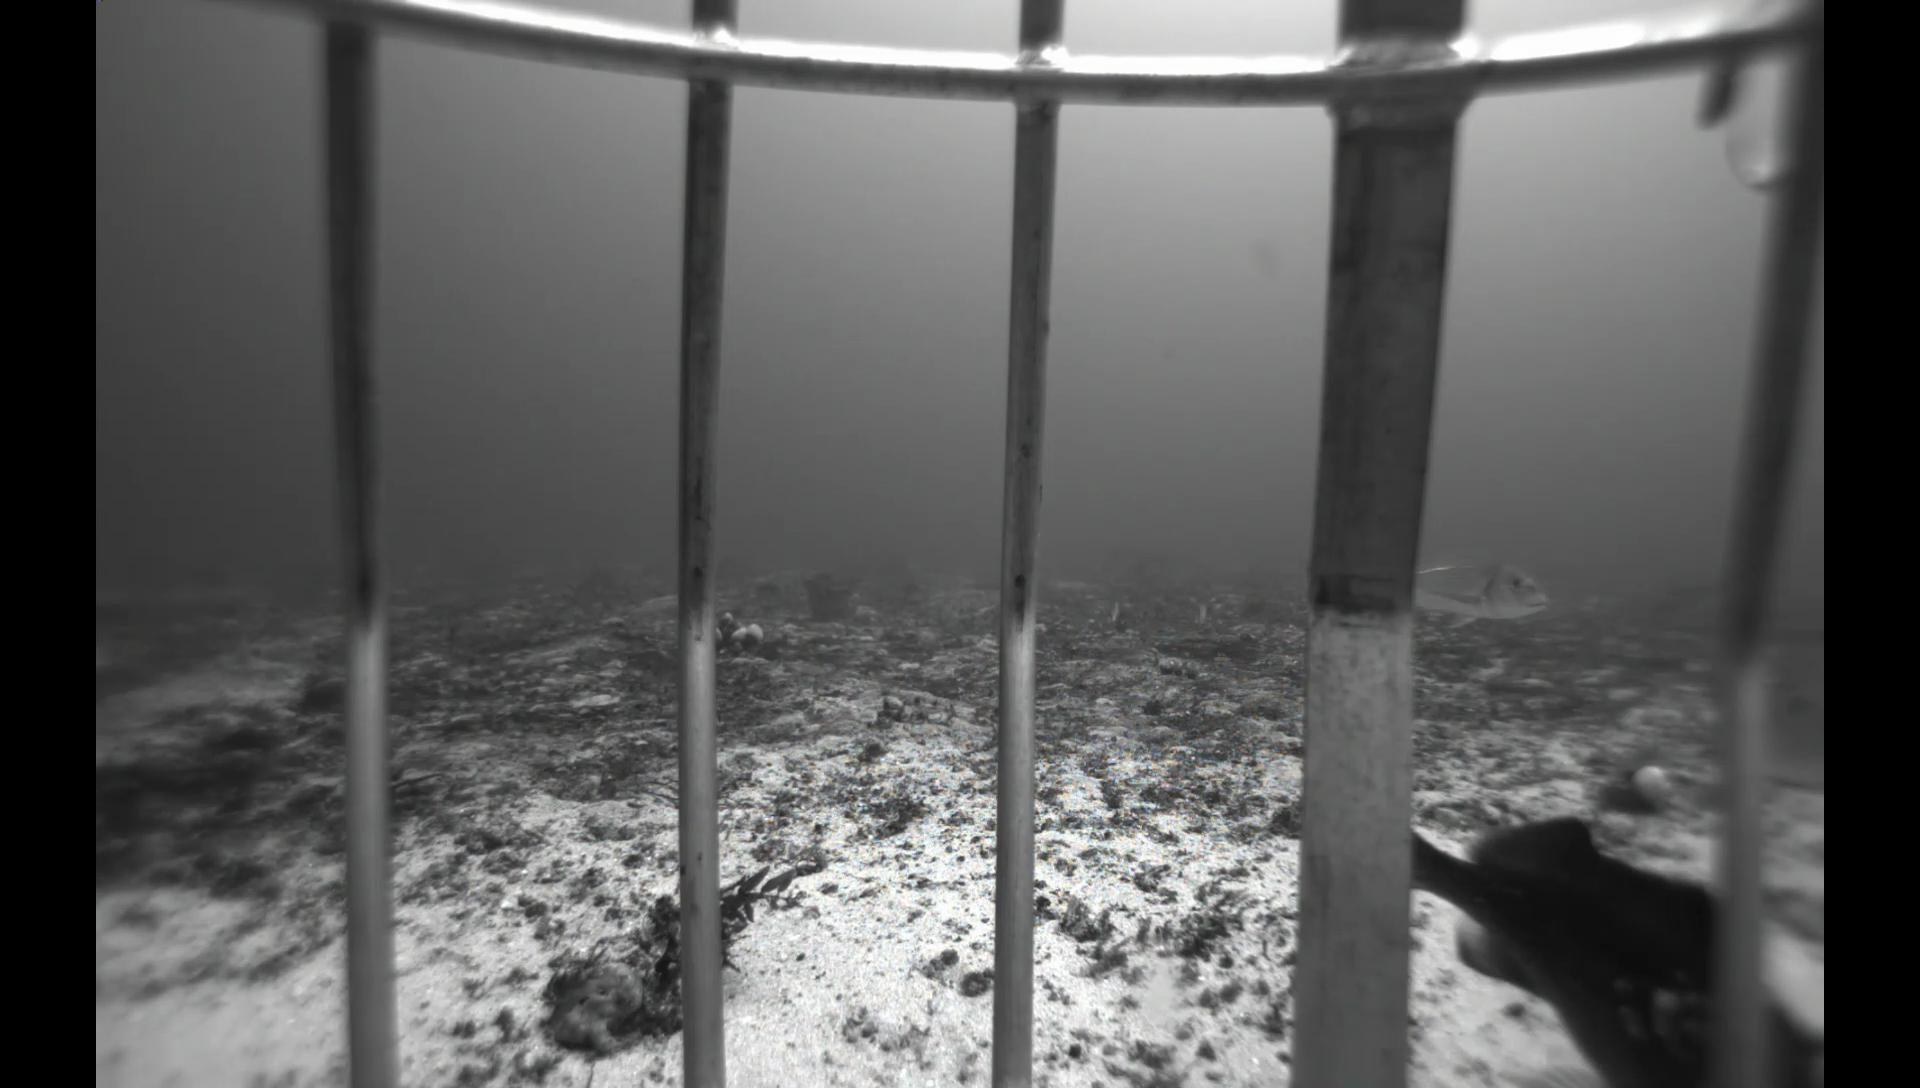CALAMUSNODOSUS-170210608: (1760, 630, 1824, 797)
CHAETODONOCELLATUS-170260307: (1189, 600, 1215, 630), (1106, 599, 1125, 625)
EPINEPHELUSMORIO-170021211: (1410, 808, 1832, 1088)
HALICHOERESBIVITTATUS-170281202: (252, 646, 294, 667)
PAGRUSPAGRUS-170212302: (1418, 553, 1553, 633)
PRISTIGENYSALTA-170050401: (294, 678, 347, 717)
